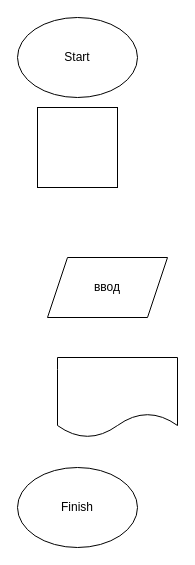
Some shapes in this 195 by 565 pixel diagram are drawn without their labels. Each missing label, with the centre of its shape:
"вывод" belongs at (117,397).
"действие" belongs at (77,147).
